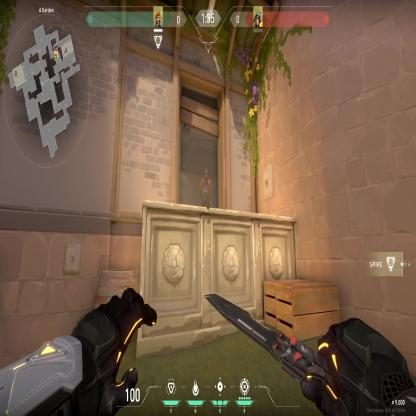enemy: (199, 166, 212, 208)
